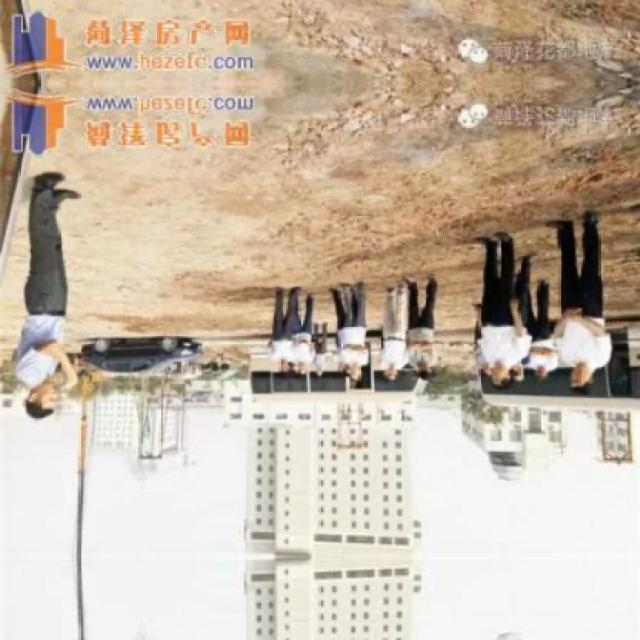sin casco: (6, 344, 120, 433), (539, 343, 604, 402), (466, 345, 513, 406), (389, 350, 448, 390), (270, 349, 292, 385), (328, 357, 354, 381), (382, 354, 401, 383)
